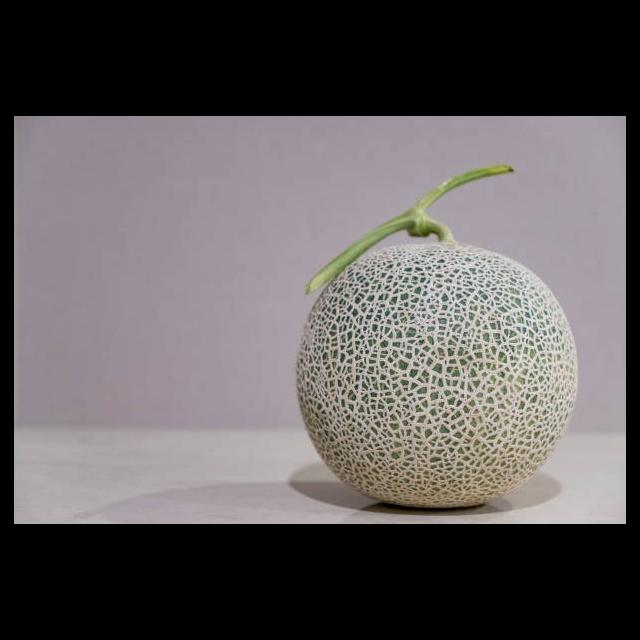Hami Melon: (296, 168, 578, 506)
